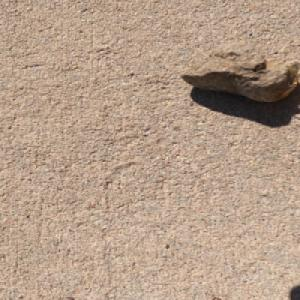Rock: (179, 41, 300, 102)
